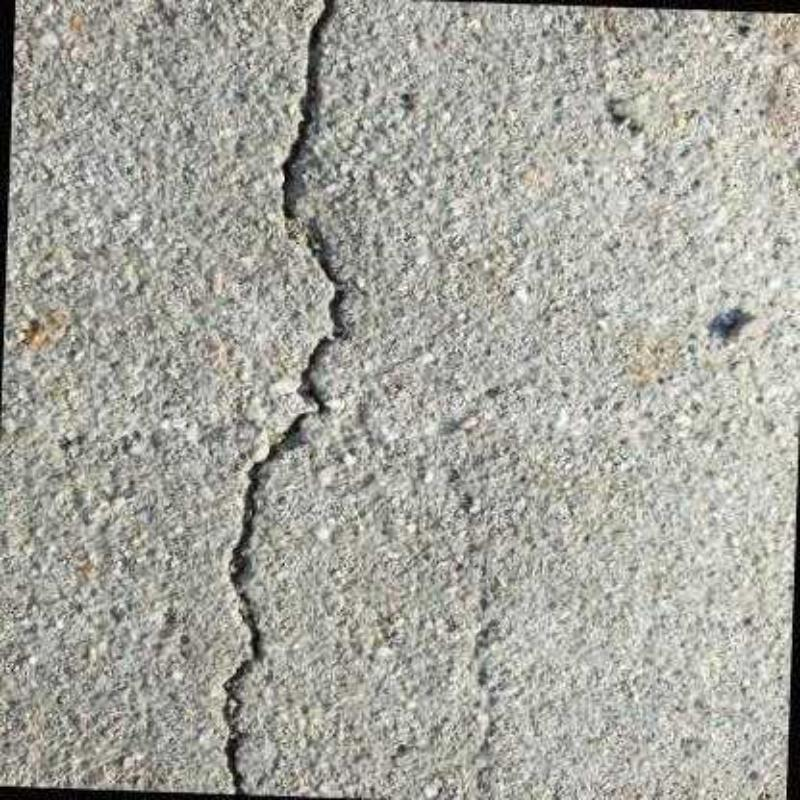pothole: (216, 0, 354, 795)
